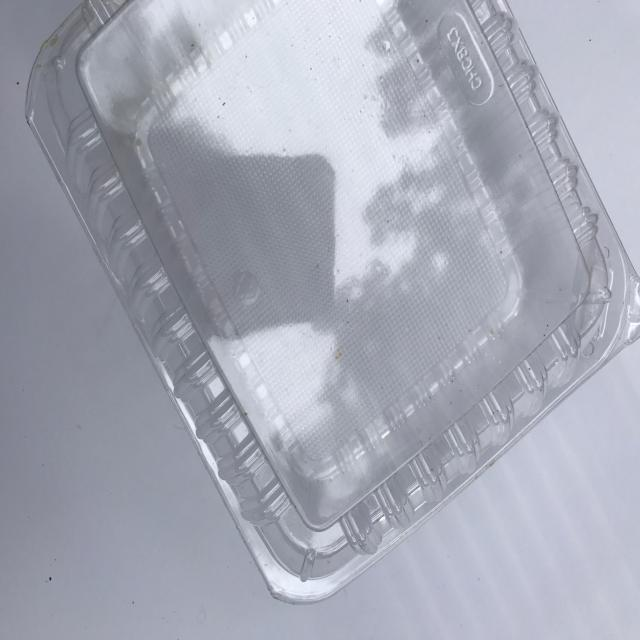plastic: (23, 0, 638, 605)
